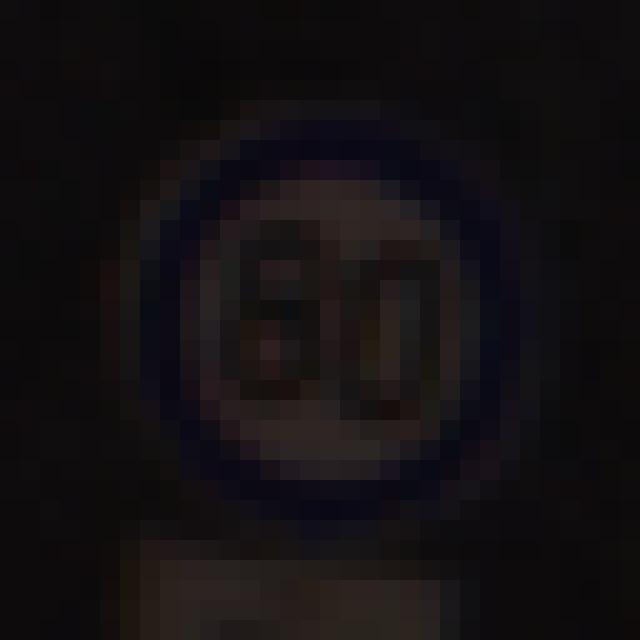SPEED-LIMIT-80: (112, 115, 512, 495)
